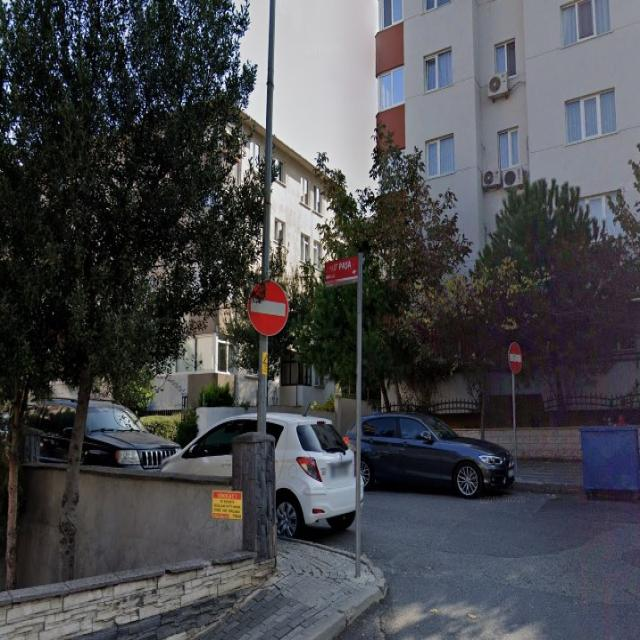girisyok: (247, 280, 288, 336), (508, 342, 522, 374)
